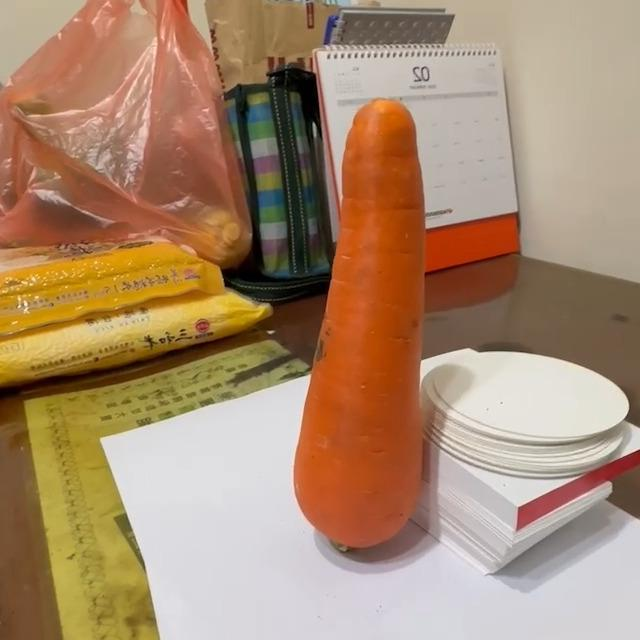carrot: (291, 96, 428, 551)
